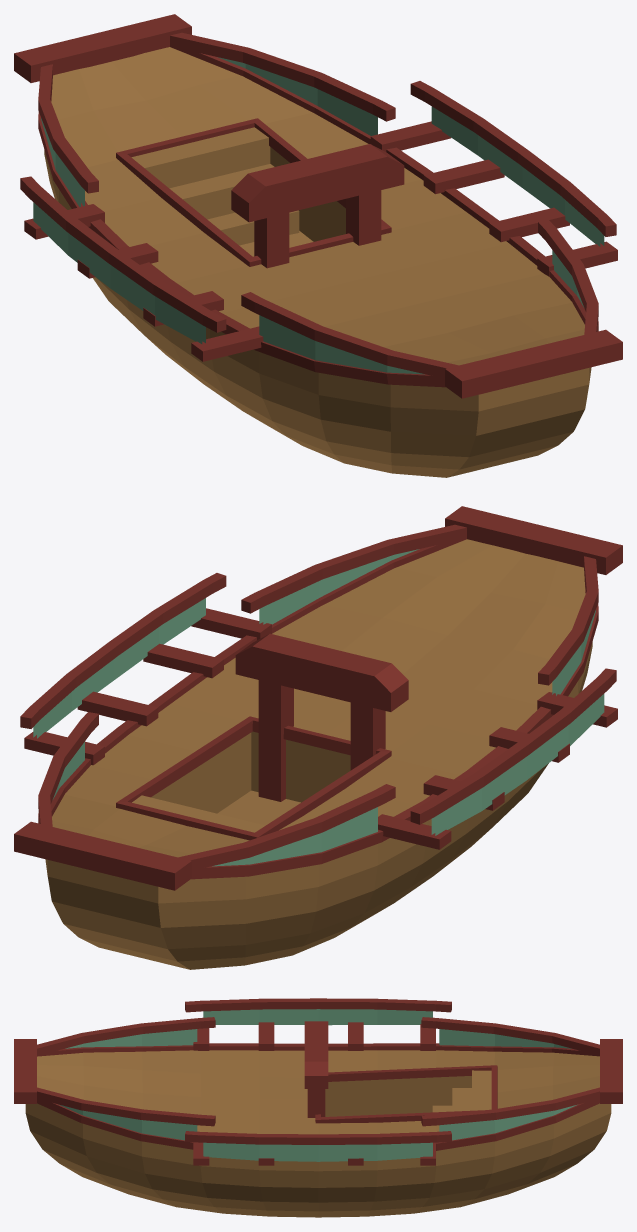
The model's file is maengseon.glb.
3 renders of one model, top to bottom at view 1: azimuth 30°, elevation 25°; view 2: azimuth 150°, elevation 25°; view 3: azimuth 270°, elevation 25°, orthographic. The views are drawn at different scales.
Visible parts, largest first — view 1: hull, rail_upper, side_guard, mast_holder, extended_deck_04, rail_lower, stair, bumper_front, bumper_back, hull_inner_space_rail, hull_inner_space; view 2: hull, rail_upper, mast_holder, side_guard, extended_deck_04, hull_inner_space, rail_lower, hull_inner_space_rail, bumper_back, bumper_front, stair; view 3: hull, rail_upper, side_guard, rail_lower, hull_inner_space, hull_inner_space_rail, extended_deck_04, mast_holder, bumper_front, bumper_back, stair.
Part boxes in pixels (<box>): hull: <box>44,47,591,477</box>; rail_upper: <box>20,32,616,376</box>; side_guard: <box>33,57,604,374</box>; mast_holder: <box>231,144,404,268</box>; extended_deck_04: <box>24,121,617,361</box>; rail_lower: <box>38,46,598,387</box>; stair: <box>131,127,299,245</box>; bumper_front: <box>445,329,622,398</box>; bumper_back: <box>14,14,191,82</box>; hull_inner_space_rail: <box>116,118,391,266</box>; hull_inner_space: <box>239,147,345,256</box>; hull: <box>45,539,592,969</box>; rail_upper: <box>20,524,616,868</box>; mast_holder: <box>235,633,408,801</box>; side_guard: <box>33,549,604,866</box>; extended_deck_04: <box>24,608,617,849</box>; hull_inner_space: <box>151,731,350,825</box>; rail_lower: <box>38,533,598,879</box>; hull_inner_space_rail: <box>116,716,391,840</box>; bumper_back: <box>14,821,191,890</box>; bumper_front: <box>445,506,622,574</box>; stair: <box>132,795,265,832</box>; hull: <box>25,1050,611,1217</box>; rail_upper: <box>37,998,599,1144</box>; side_guard: <box>59,1009,577,1161</box>; rail_lower: <box>37,1043,599,1150</box>; hull_inner_space: <box>325,1076,471,1116</box>; hull_inner_space_rail: <box>315,1065,497,1123</box>; extended_deck_04: <box>193,1022,435,1165</box>; mast_holder: <box>304,1021,328,1117</box>; bumper_front: <box>14,1039,36,1103</box>; bumper_back: <box>600,1039,622,1103</box>; stair: <box>432,1070,491,1112</box>.
Bounding box in the file's own units: 5.78 × 2.82 × 10.69.
